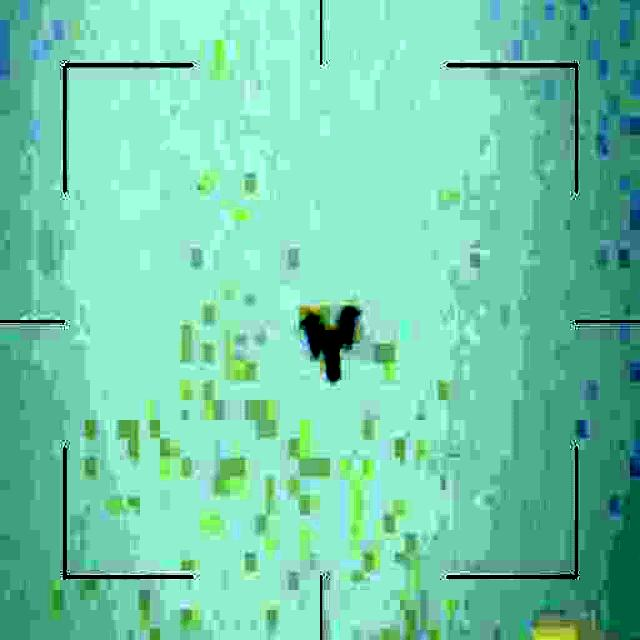bird: (296, 302, 358, 390)
